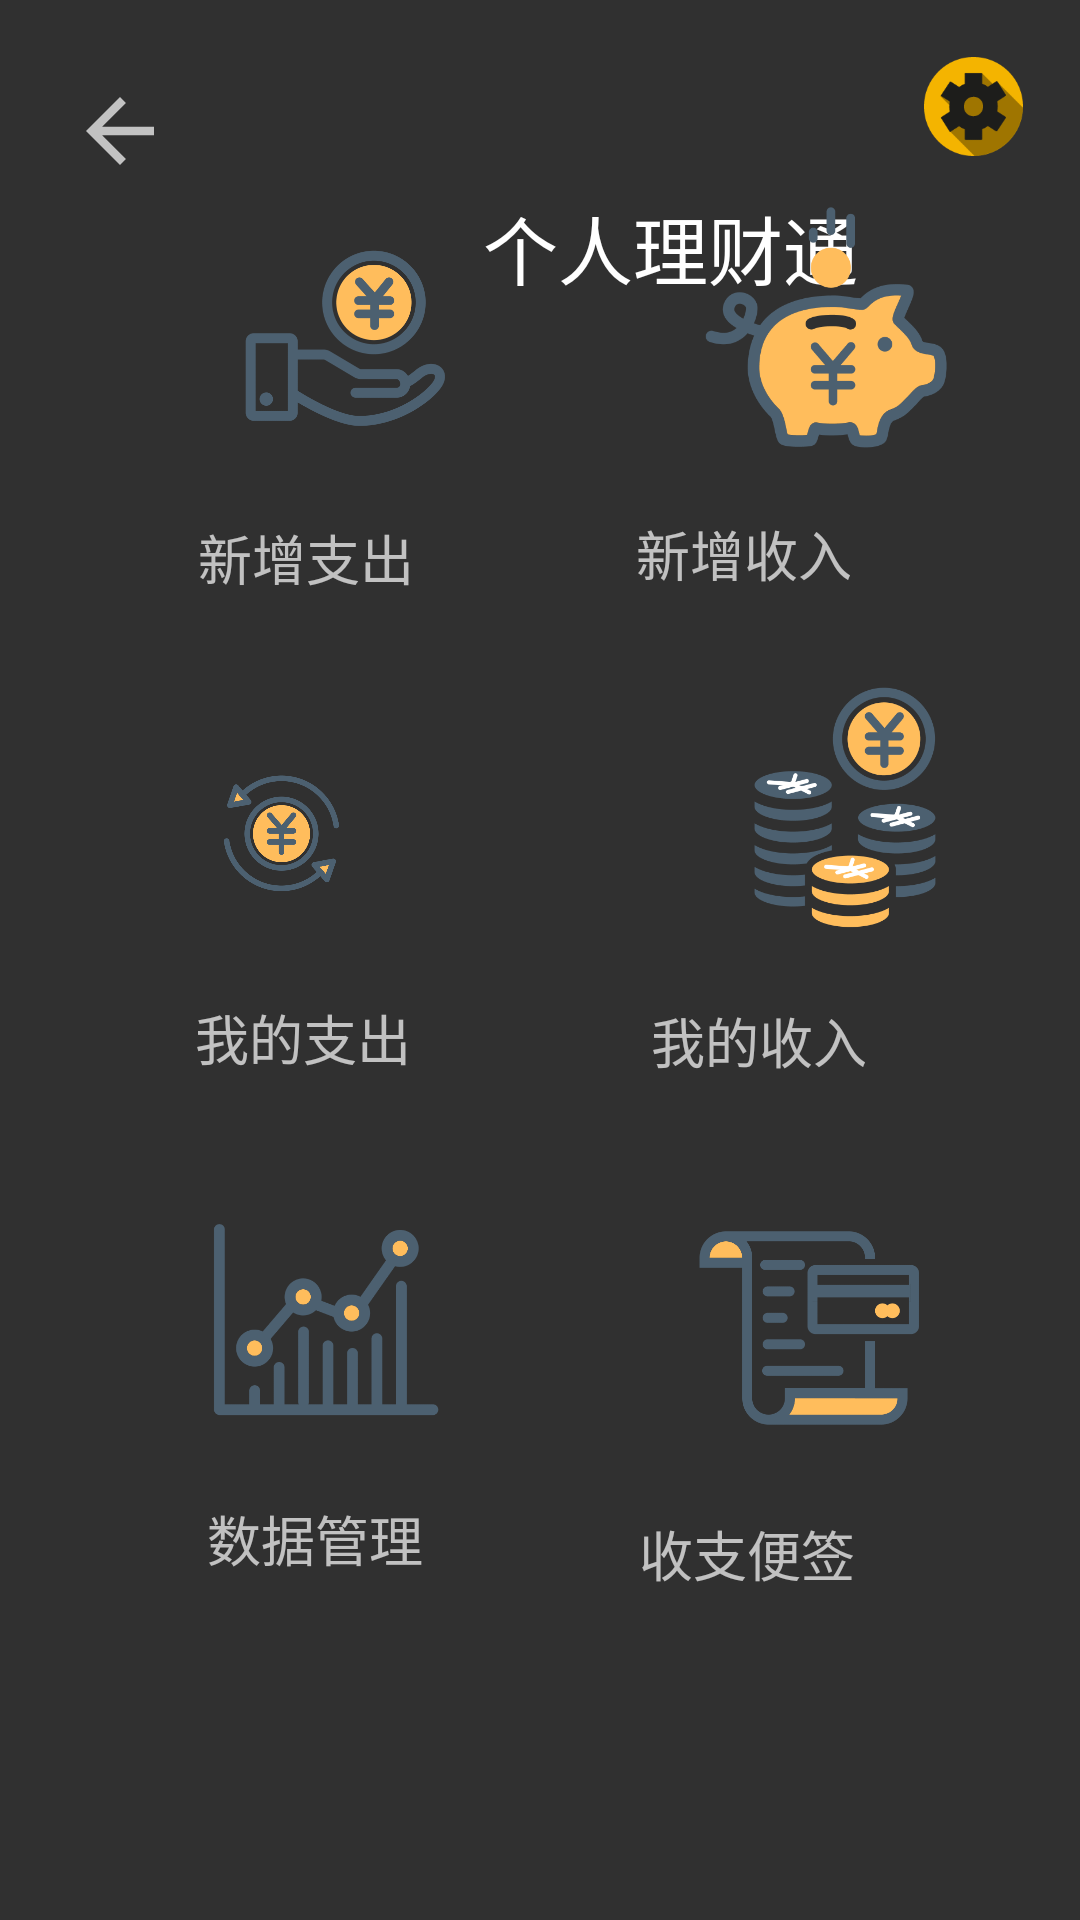

Where to tap for icons on this 1080px×1920px app screen, as (x=x, y=y):
addout: (x=345, y=338)
allin: (x=845, y=807)
allout: (x=281, y=833)
data: (x=326, y=1319)
note: (x=809, y=1328)
setting: (x=973, y=106)
